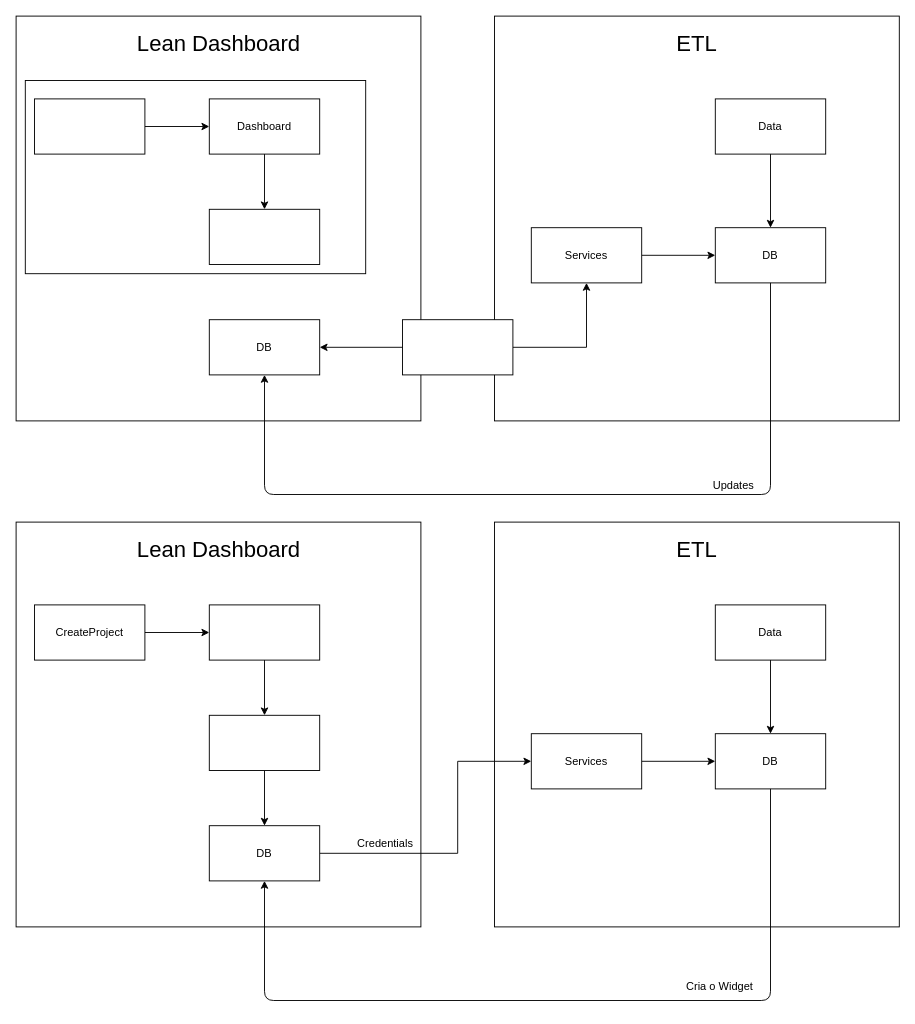
Image size: 915x1024. Some labels were removed from this diagram. Here are the shapes that lost their labels. From the top down, the centre of each, then its label:
At (89,126): "Project".
At (264,236): "Widgets".
At (457,347): "Scheduler".
At (264,632): "Create Dashboard".
At (264,742): "Select Widgets".
